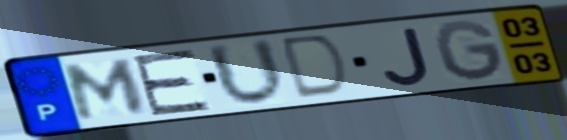D: (280, 32, 352, 102)
E: (129, 46, 214, 118)
G: (431, 18, 509, 83)
J: (380, 25, 435, 88)
M: (63, 56, 150, 123)
U: (202, 36, 291, 108)
